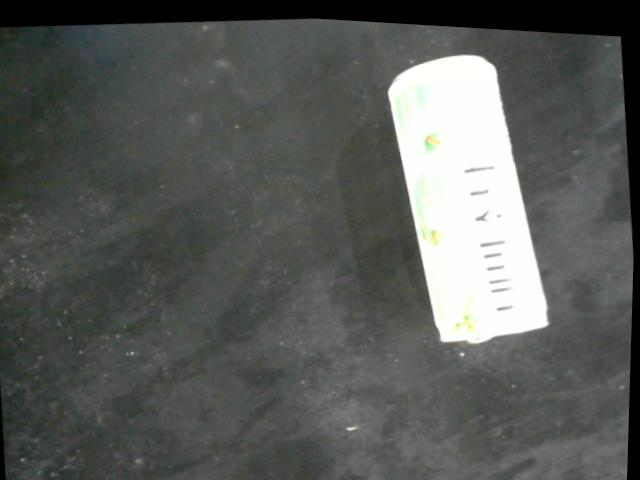can: (385, 47, 553, 340)
